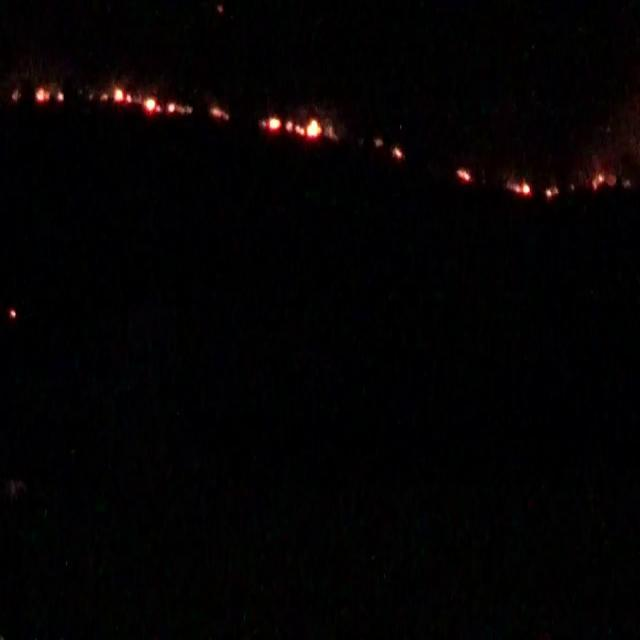Fire: (106, 85, 190, 116), (264, 115, 318, 137), (33, 85, 66, 104), (590, 167, 616, 188), (454, 164, 470, 184), (508, 182, 530, 196), (393, 144, 403, 156)
